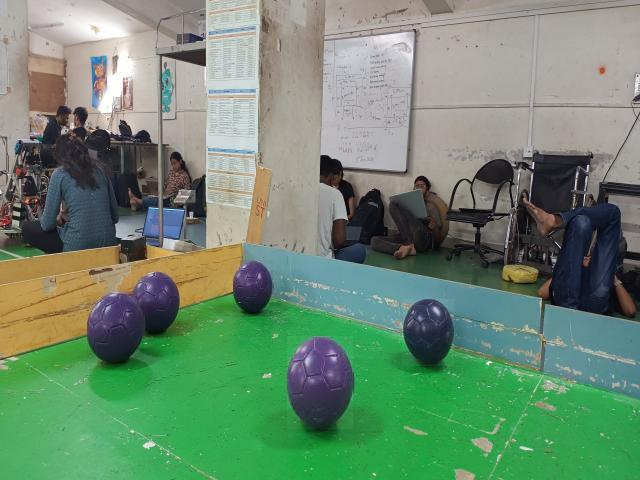jambhalya: (287, 336, 353, 429), (87, 292, 144, 363), (133, 272, 180, 333), (234, 260, 273, 313)
kaalyya: (403, 300, 454, 366)
